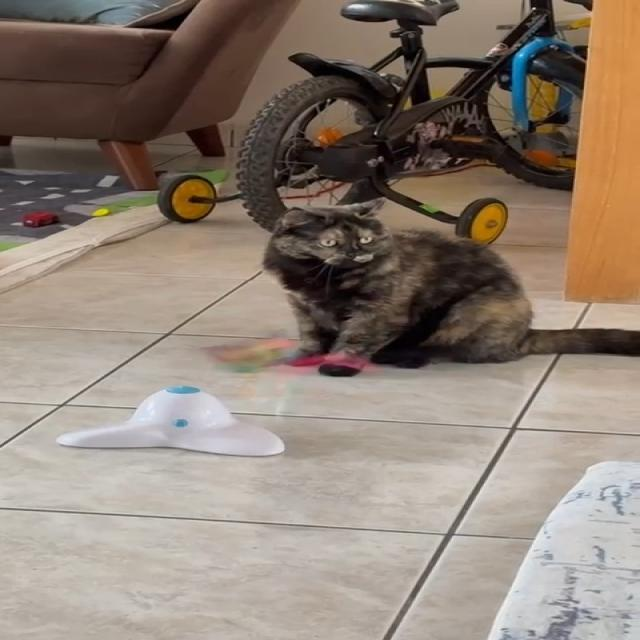authorized: (260, 196, 639, 374)
